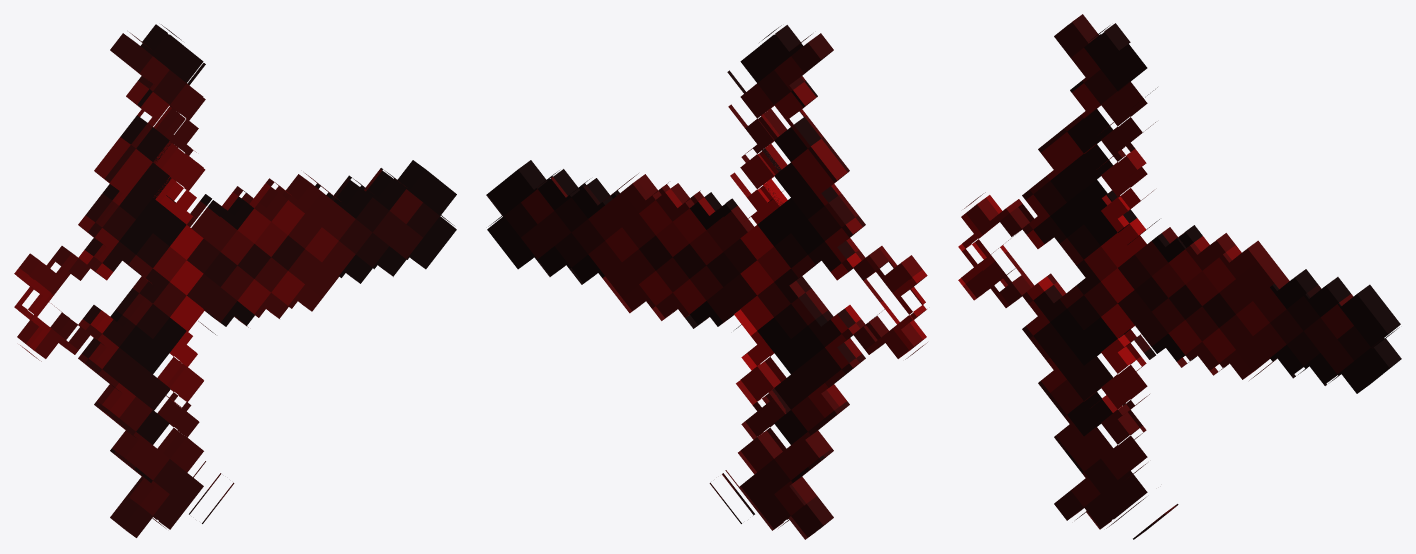
The model's file is SM_HeavyCrossbow_Unique2_1.glb.
3 views of the same model, side by side, from view 1: azimuth 30°, elevation 25°; view 2: azimuth 150°, elevation 25°; view 3: azimuth 330°, elevation 25° (orthographic).
Parts seen in each view (by area): view 1: SM_HeavyCrossbow_Unique2_1.001; view 2: SM_HeavyCrossbow_Unique2_1.001; view 3: SM_HeavyCrossbow_Unique2_1.001.
Part boxes in pixels (box(x1,y1,x2,y2)): SM_HeavyCrossbow_Unique2_1.001: box(14, 24, 456, 537); SM_HeavyCrossbow_Unique2_1.001: box(486, 25, 927, 539); SM_HeavyCrossbow_Unique2_1.001: box(958, 14, 1401, 539).
Size of the model in its own units: 119 by 133 by 6.25.
Materials: 1 (1 with a texture image).
